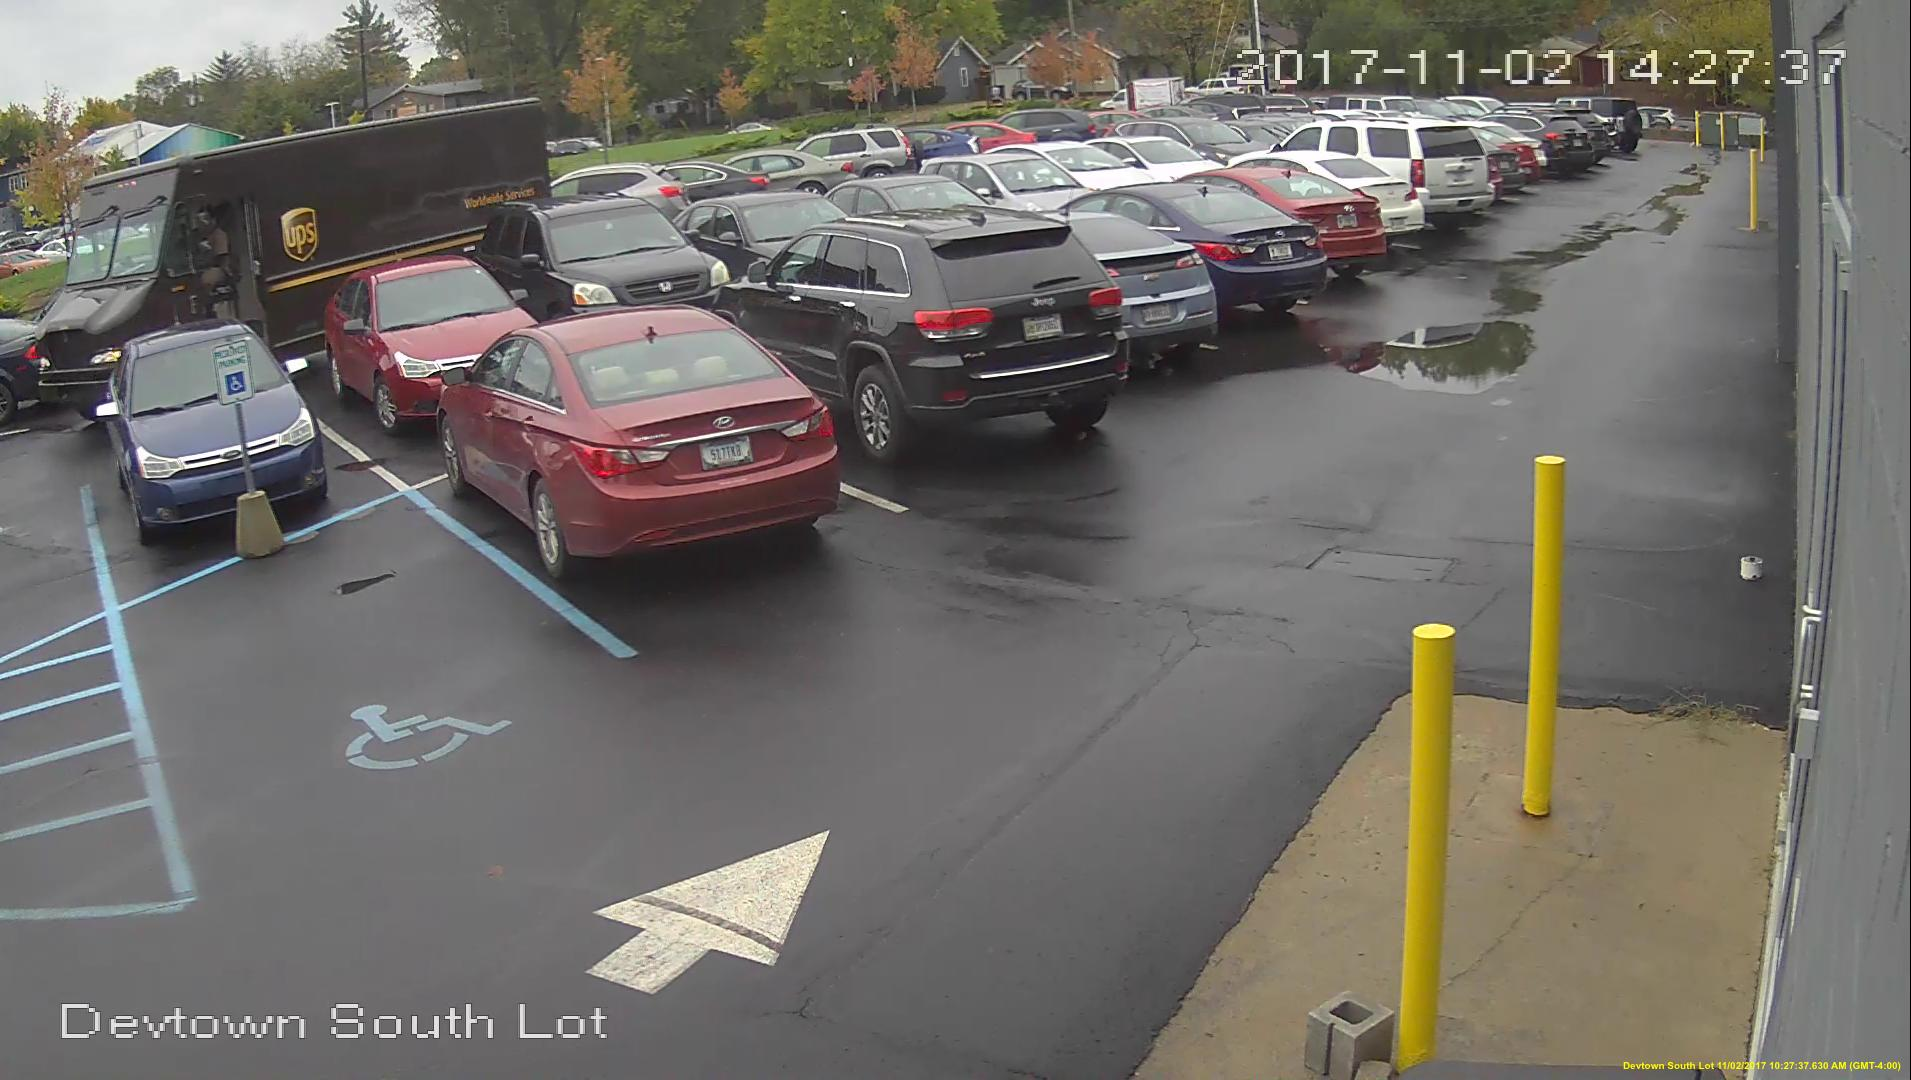ups_truck: (60, 136, 547, 354)
